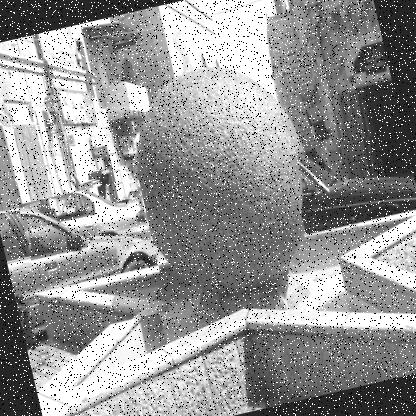Car: (0, 179, 171, 346), (287, 129, 415, 237), (19, 178, 152, 268)
